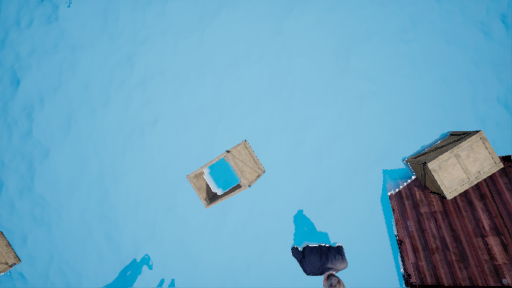person: (290, 212, 349, 288)
